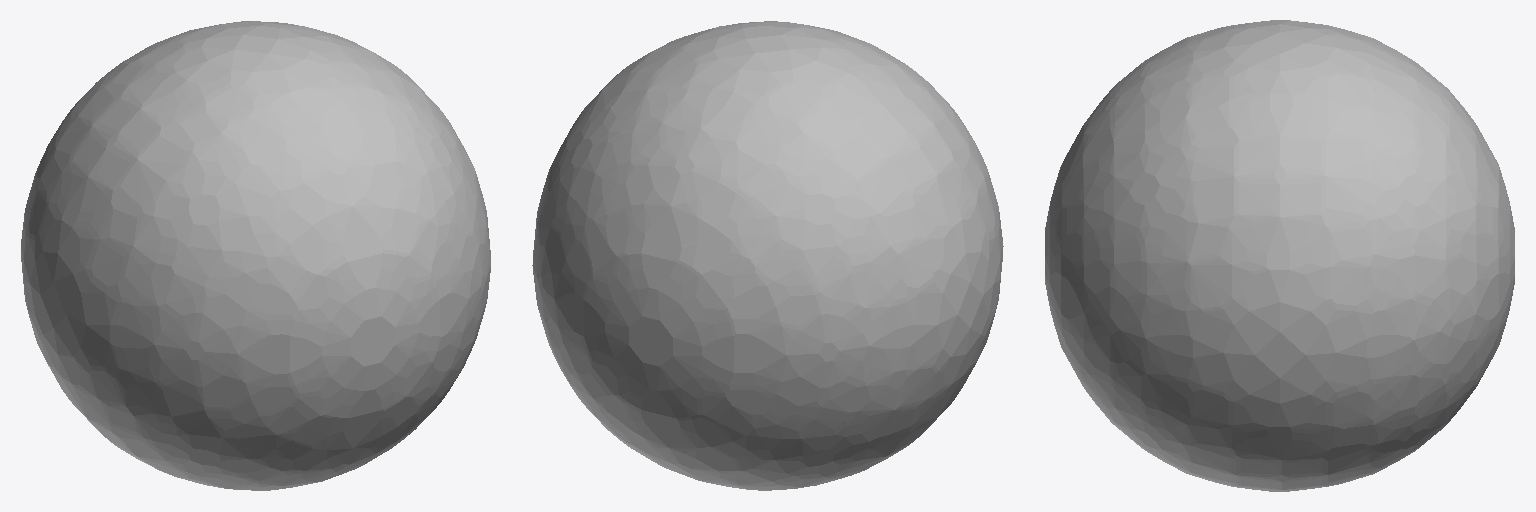
The robot description file, URDF, robot "root":
<robot name="root">
  <link name="link_coacd_convex_piece_0">
    <inertial>
      <origin xyz="0 0 0" rpy="0 0 0"/>
      <inertia ixx="1.47E+00" ixy="-7.69E-04" ixz="-7.41E-04" iyy="1.47E+00" iyz="-7.41E-04" izz="1.46E+00"/>
    </inertial>
    <visual>
      <origin xyz="0 0 0" rpy="0 0 0"/>
      <geometry>
        <mesh filename="coacd_convex_piece_0.obj" scale="1.0000E+00 1.0000E+00 1.0000E+00"/>
      </geometry>
      <material name="">
        <color rgba="7.50E-01 7.50E-01 7.50E-01 1"/>
      </material>
    </visual>
    <collision>
      <origin xyz="0 0 0" rpy="0 0 0"/>
      <geometry>
        <mesh filename="coacd_convex_piece_0.obj" scale="1.0000E+00 1.0000E+00 1.0000E+00"/>
      </geometry>
    </collision>
  </link>
</robot>

--- What the picture shows (computed from the rendered views, not written in the file) ---
The picture shows the robot from 3 angles, left to right: view 1: azimuth 30°, elevation 25°; view 2: azimuth 150°, elevation 25°; view 3: azimuth 270°, elevation 25°; orthographic projection.
Robot: root — 1 links, 0 joints (none); root link link_coacd_convex_piece_0; default pose: every joint at zero.
Links seen in each view (by area): view 1: link_coacd_convex_piece_0; view 2: link_coacd_convex_piece_0; view 3: link_coacd_convex_piece_0.
Boxes of the visible links, x1=… form: link_coacd_convex_piece_0: x1=21, y1=21, x2=490, y2=490; link_coacd_convex_piece_0: x1=532, y1=21, x2=1003, y2=490; link_coacd_convex_piece_0: x1=1045, y1=20, x2=1514, y2=491.
Bounding box of the posed robot: 1.96 × 1.96 × 1.96 m (x, y, z).
Meshes: 1 distinct files referenced, 1 mesh visuals loaded (1 OBJ).
